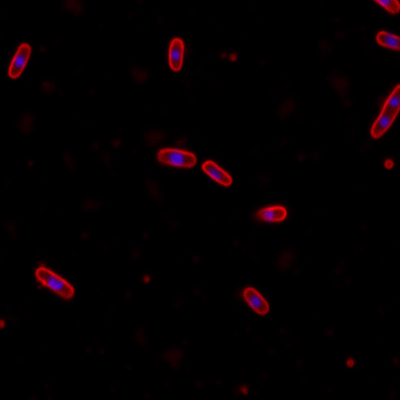CAM: (35, 264, 75, 301), (202, 160, 235, 190), (6, 42, 32, 80), (241, 284, 271, 316), (157, 147, 196, 169), (168, 38, 185, 73)
Oblique: (252, 205, 288, 225)
Vesicle: (238, 383, 250, 396), (383, 157, 395, 169), (344, 355, 355, 368), (227, 51, 238, 63), (140, 273, 152, 284)
